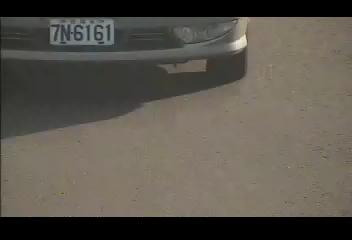plate: (49, 18, 114, 46)
